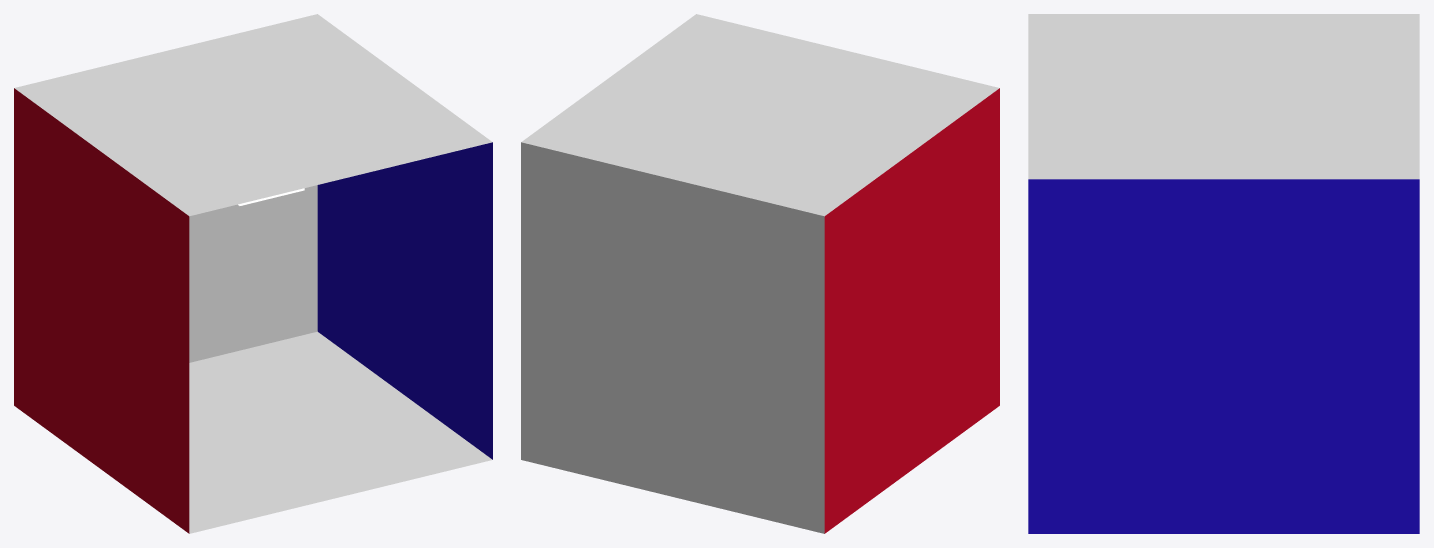
The model's file is pathtracer_bunny.gltf.
The picture shows the model from 3 angles, left to right: view 1: azimuth 30°, elevation 25°; view 2: azimuth 150°, elevation 25°; view 3: azimuth 270°, elevation 25°; orthographic projection. The views are drawn at different scales.
Parts seen in each view (by area): view 1: Cube; view 2: Cube; view 3: Cube.
Part boxes in pixels (box(x1,y1,x2,y2)): Cube: box(14, 14, 492, 533); Cube: box(521, 14, 999, 533); Cube: box(1028, 14, 1419, 533).
Bounding box in the file's own units: 20.8 × 20.8 × 20.8.
